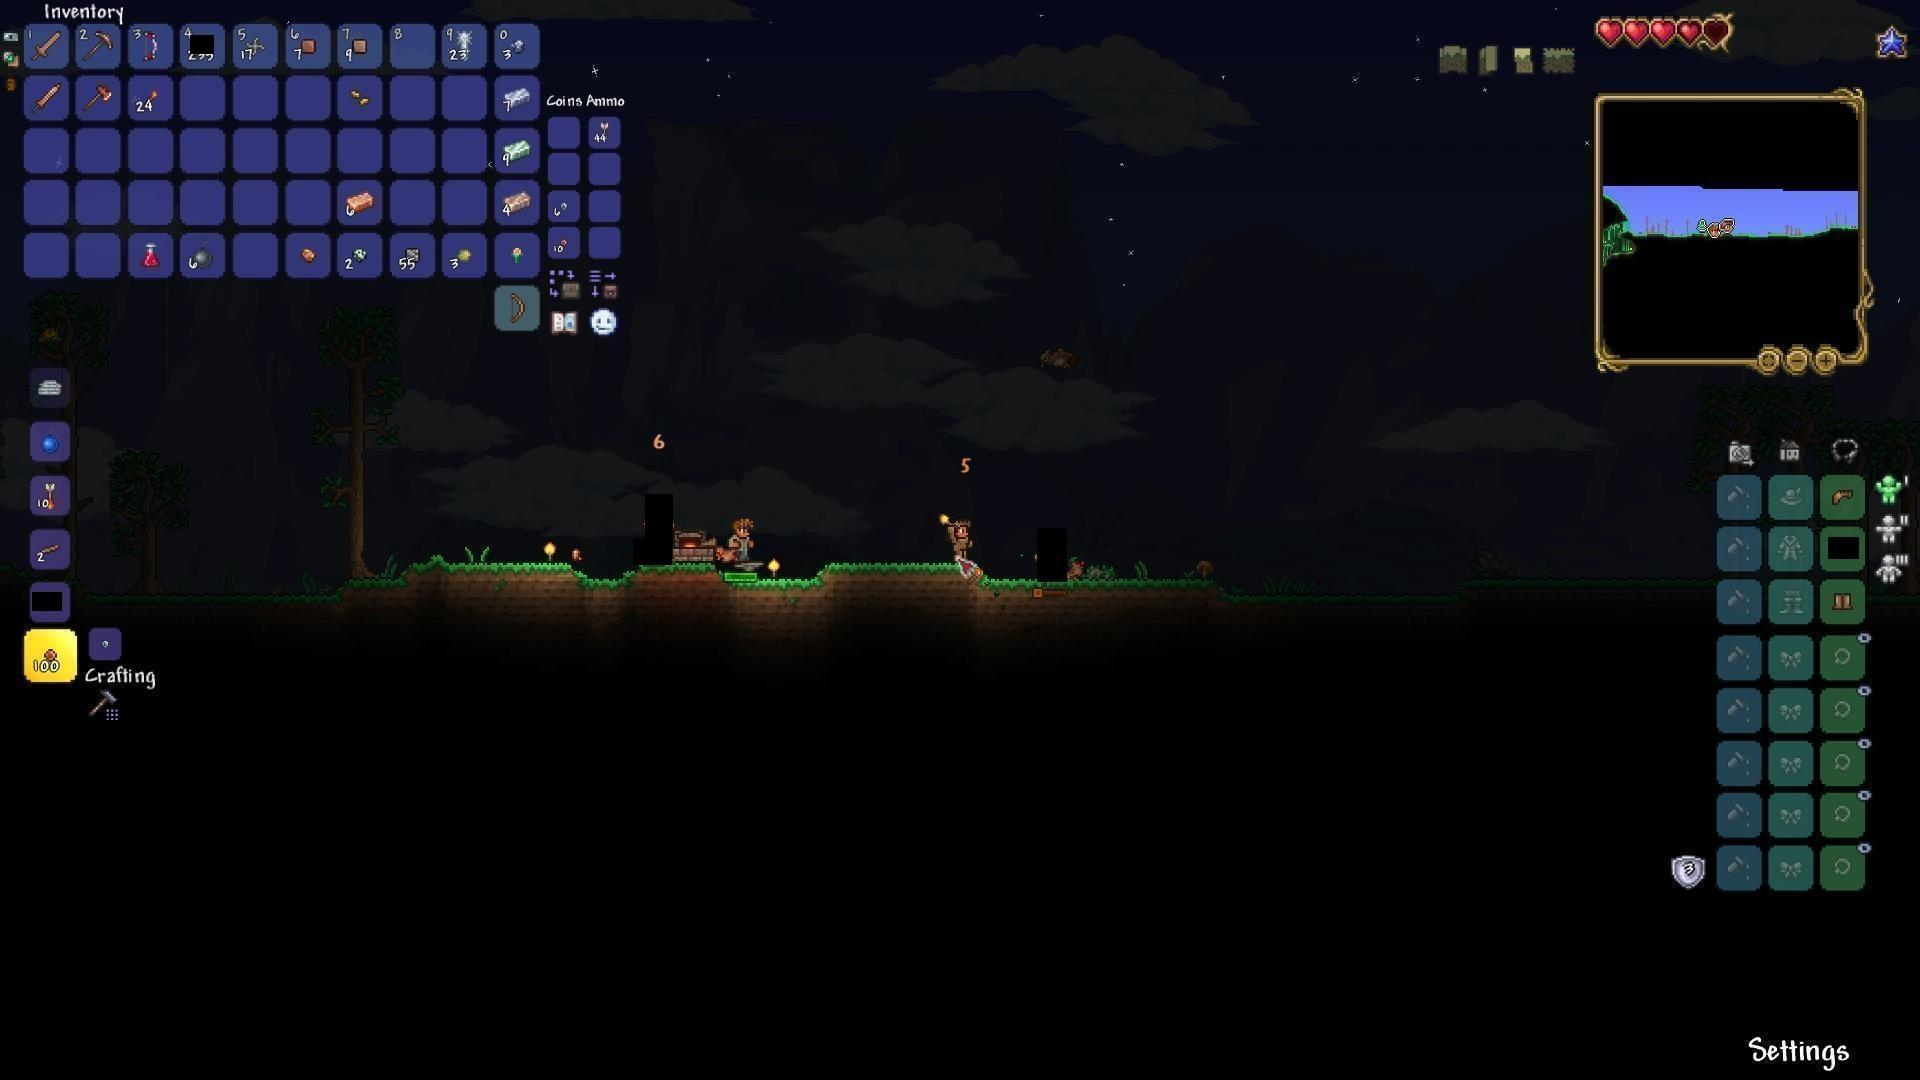helmet: (1832, 487, 1855, 508)
legs: (1829, 585, 1853, 615)
